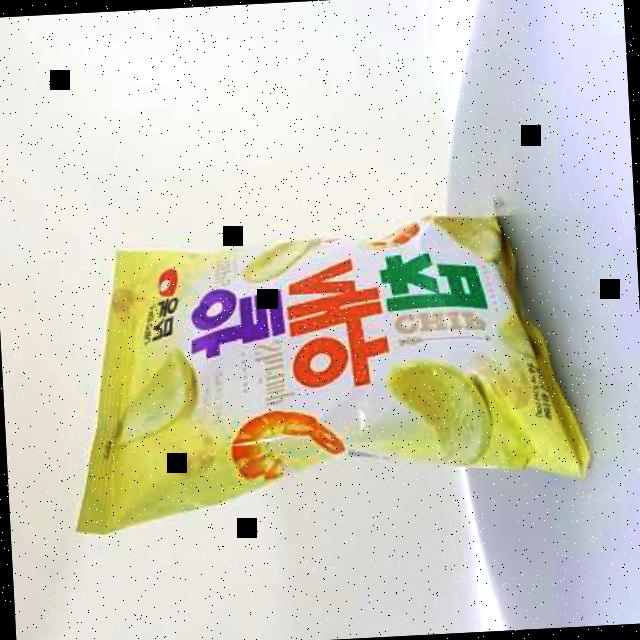snack_bag: (50, 184, 610, 550)
